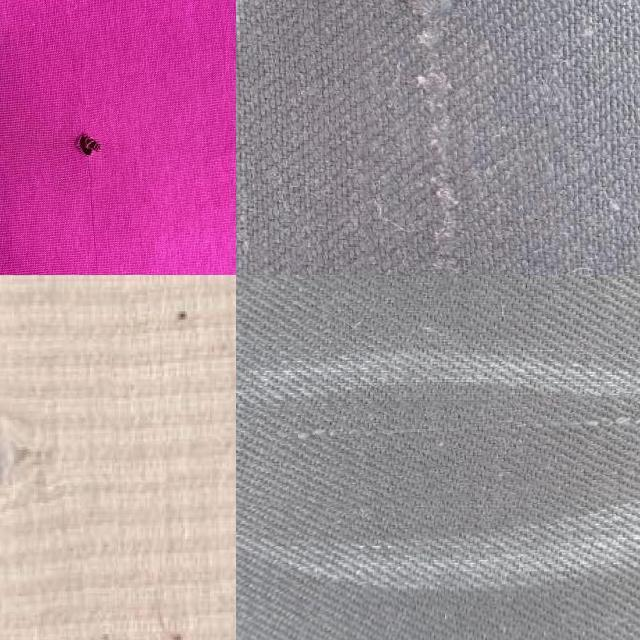Thread_other: (356, 0, 558, 275), (236, 397, 640, 505)
seam: (0, 341, 116, 615), (34, 106, 130, 190)
